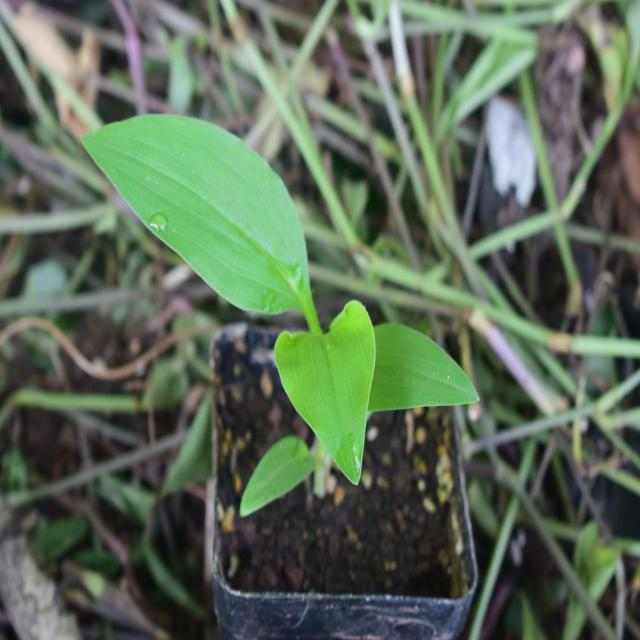Common Dayflower: (94, 94, 482, 464)
